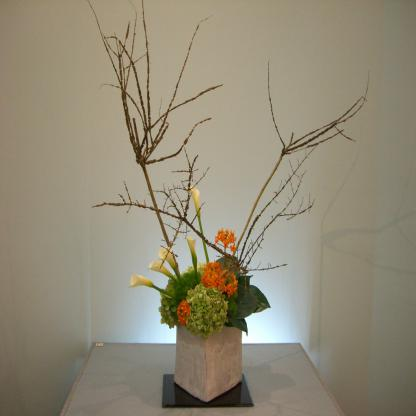vase: (173, 316, 243, 404)
